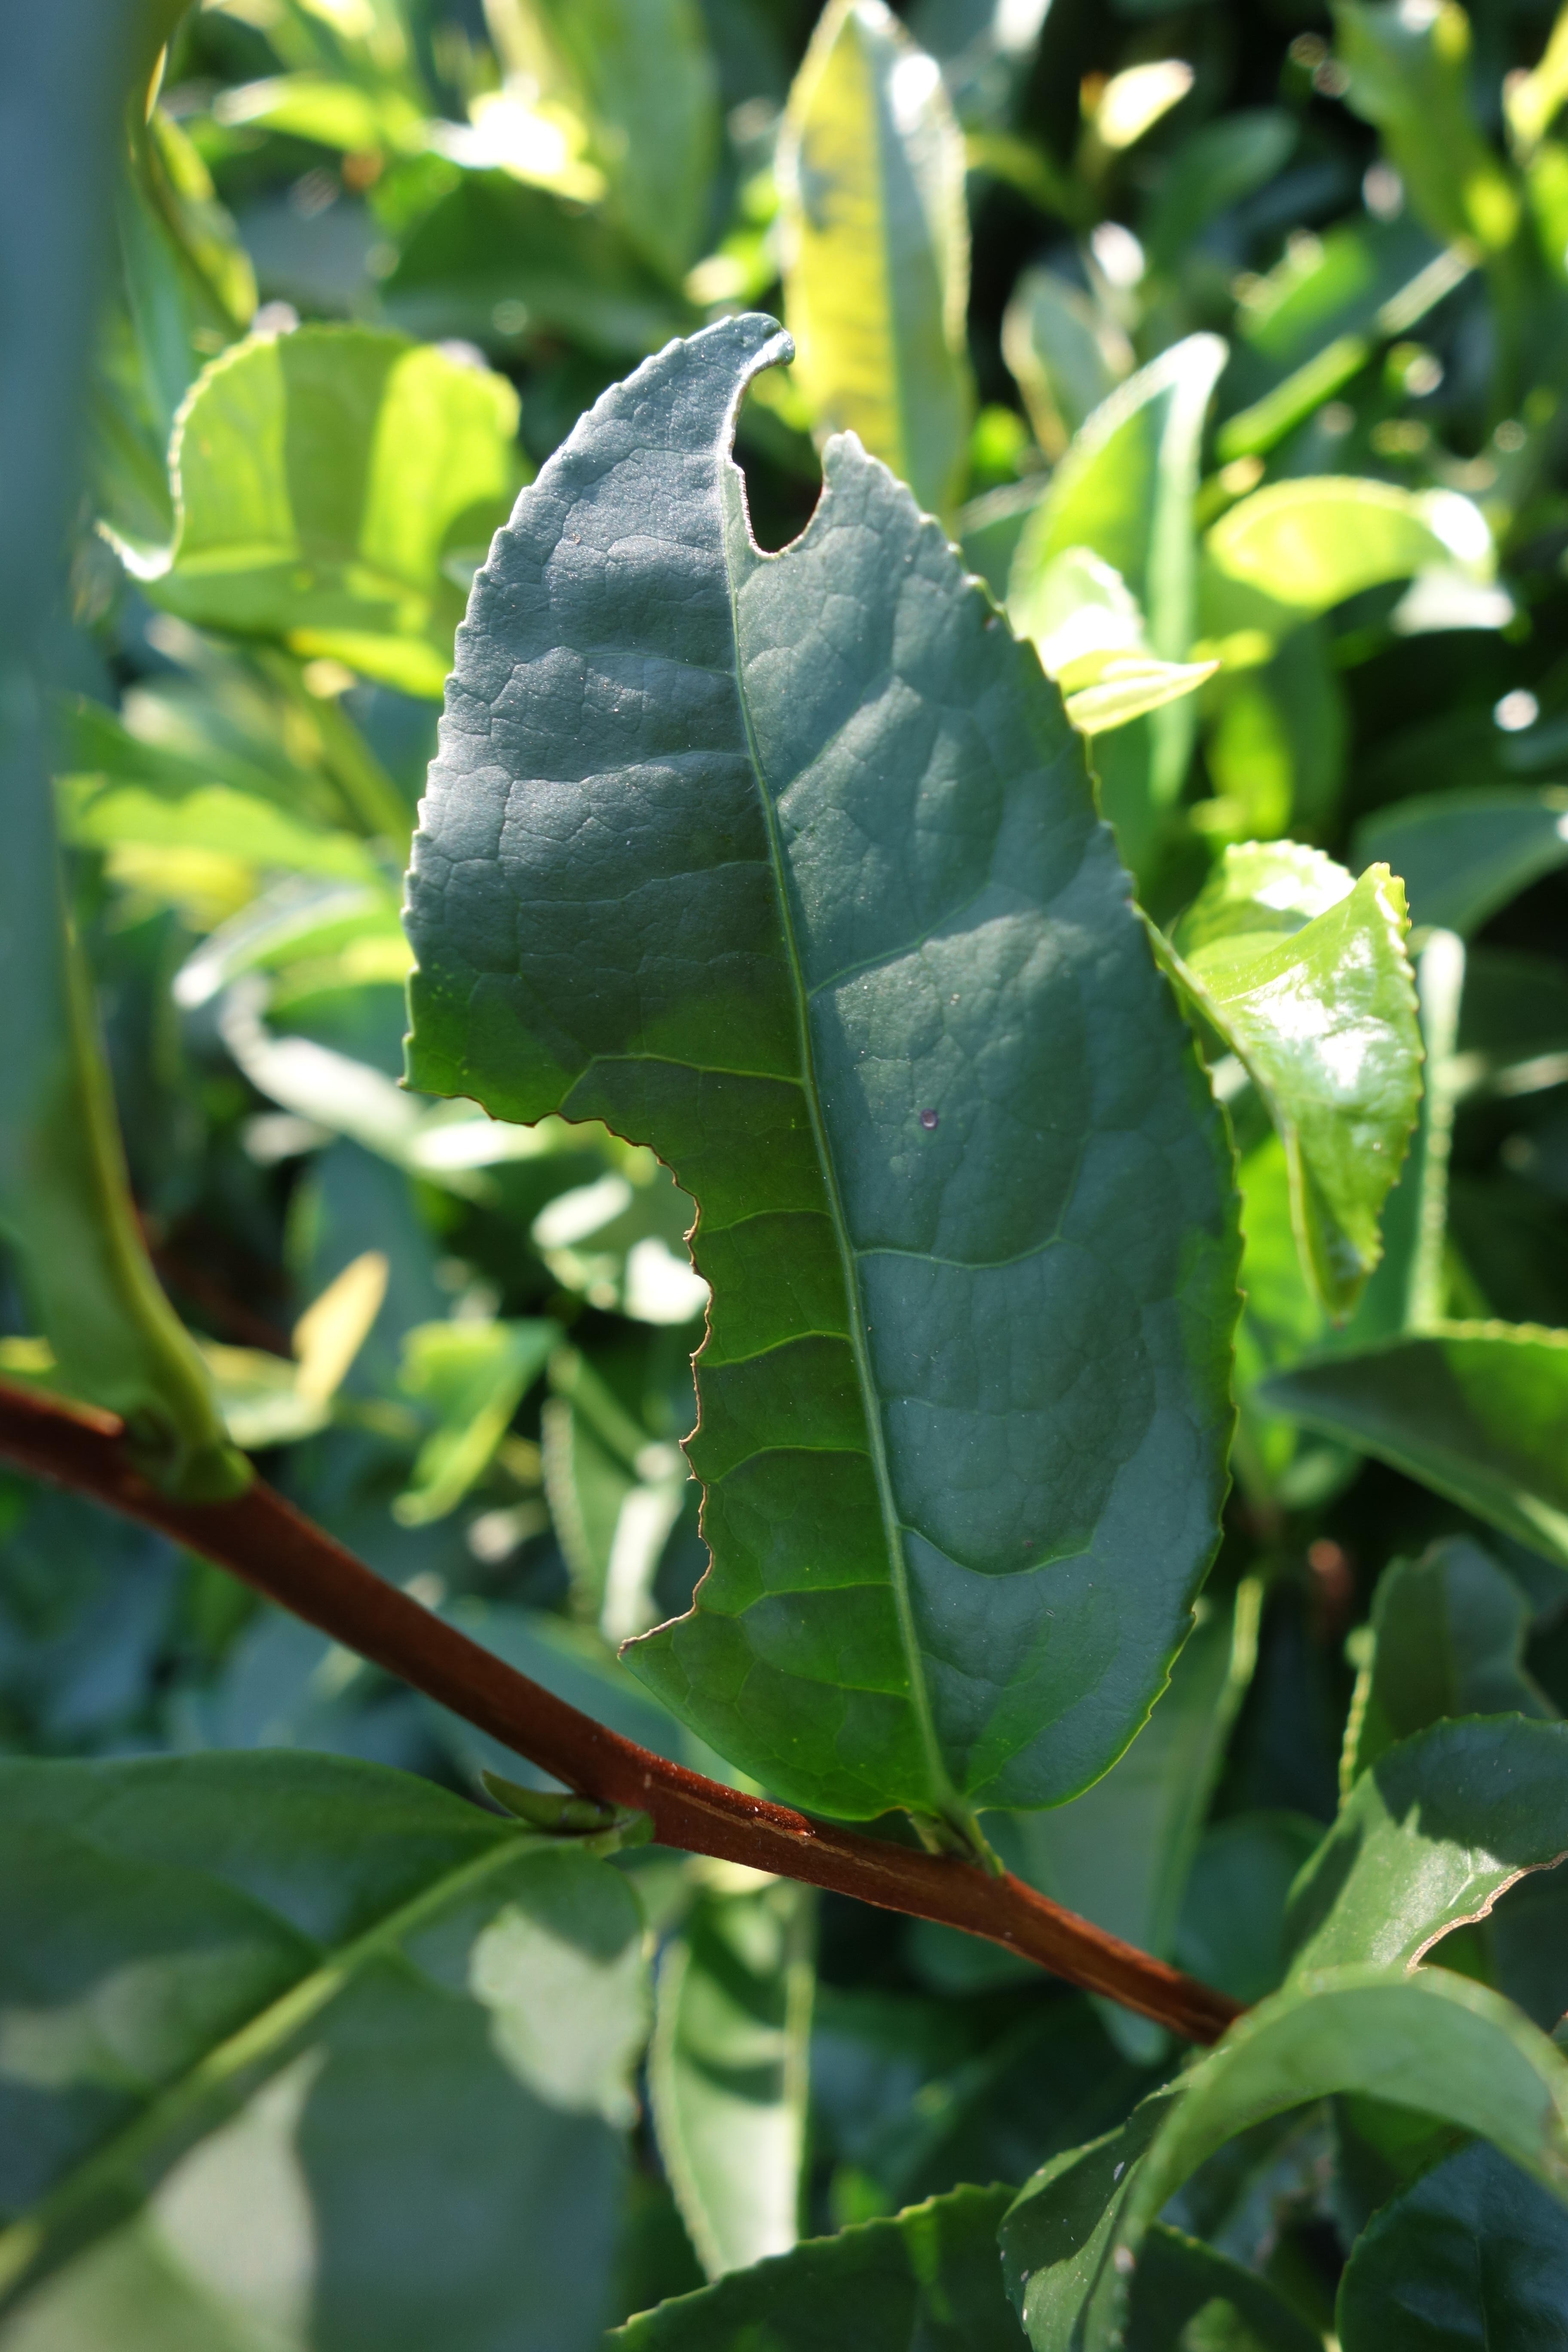chihuo_high: (402, 308, 1246, 1834)
